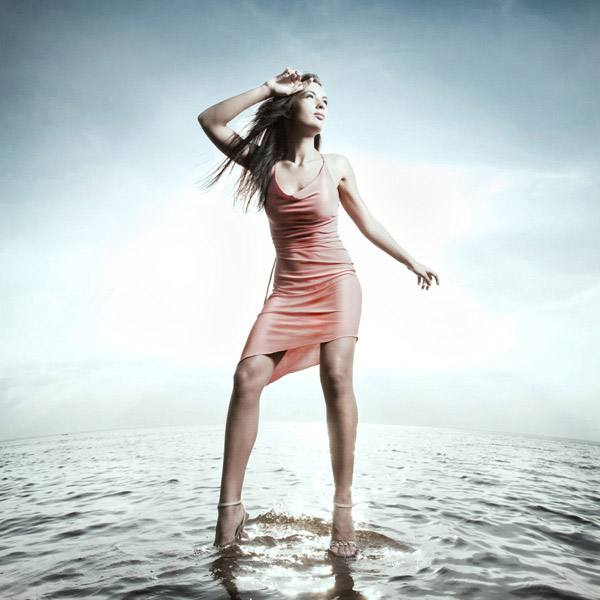person: (249, 58, 348, 144)
